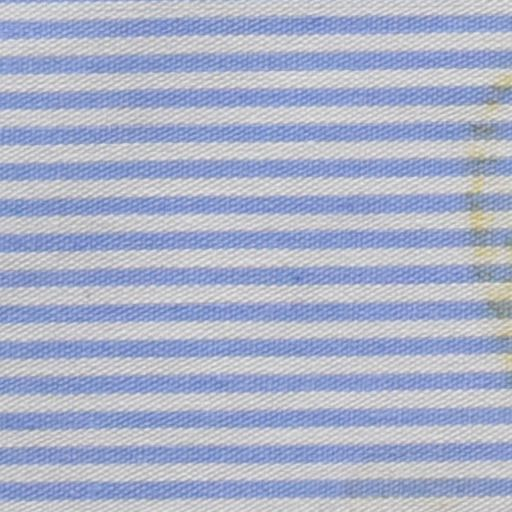defect: (465, 63, 512, 341)
